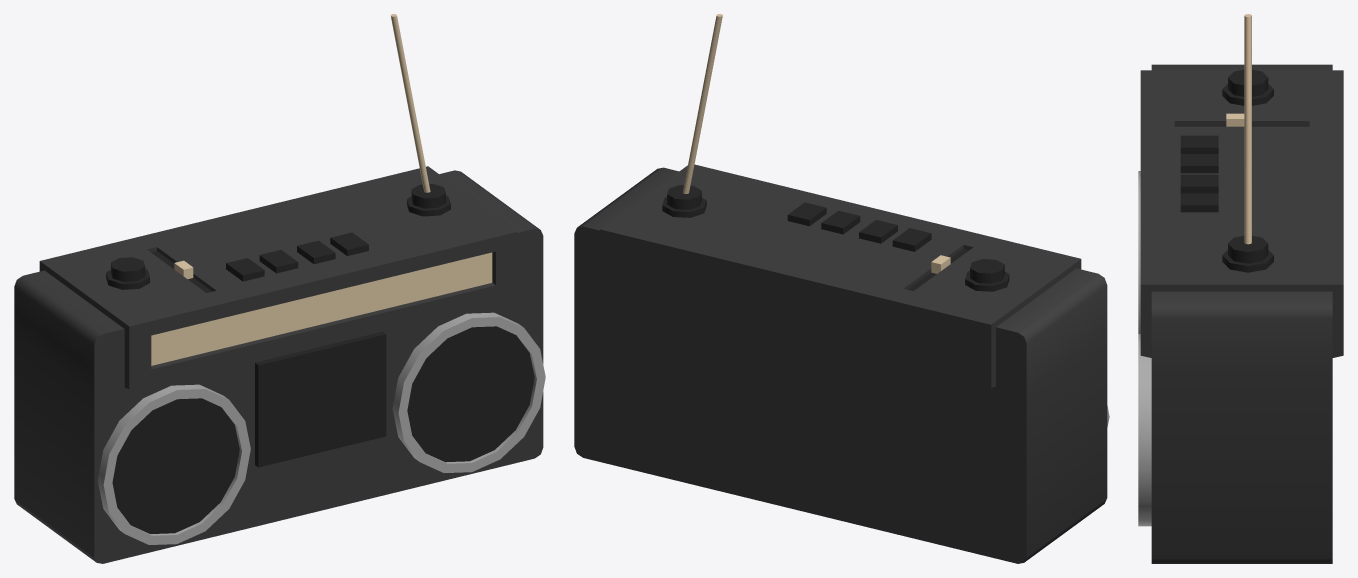
The model's file is Stereo_01.fbx.
3 renders of one model, left to right at view 1: azimuth 30°, elevation 25°; view 2: azimuth 150°, elevation 25°; view 3: azimuth 270°, elevation 25°, orthographic. The views are drawn at different scales.
Visible parts, largest first — view 1: Stereo_01; view 2: Stereo_01; view 3: Stereo_01.
Boxes of the visible parts, x1,y1,x2,y2 form: Stereo_01: (14,14,545,563); Stereo_01: (574,14,1109,563); Stereo_01: (1138,14,1343,563).
Bounding box in the file's own units: 0.5942 × 0.5512 × 0.2078.
